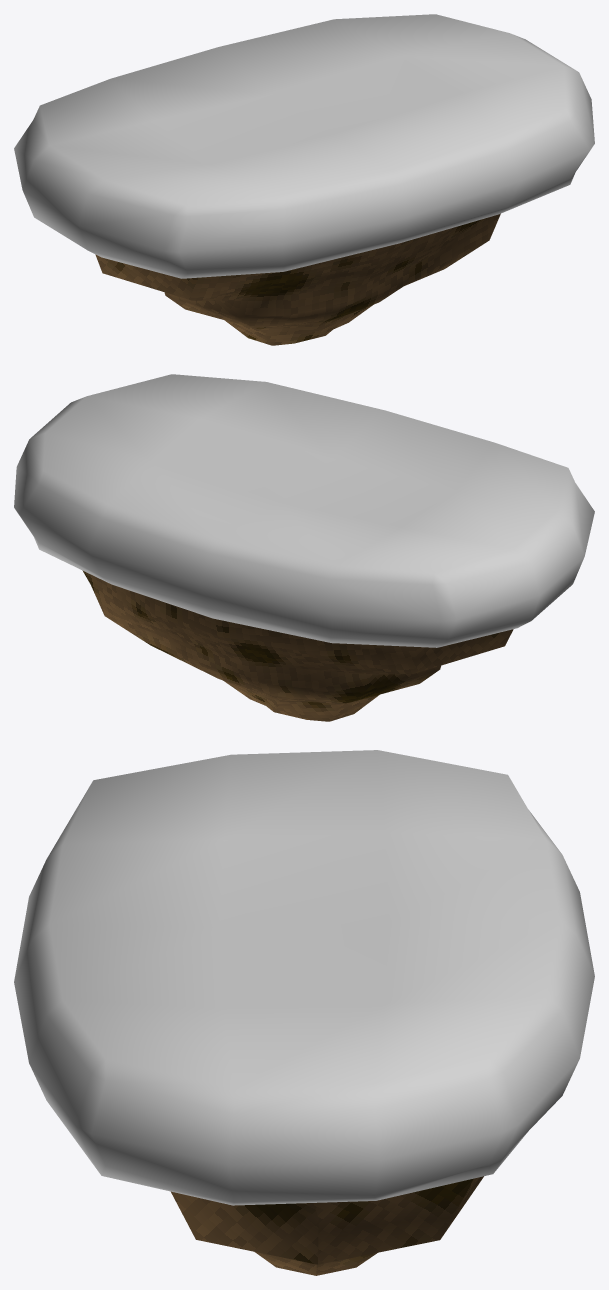
The model's file is Platform_Small01.FBX.
3 views of the same model, one above another, from view 1: azimuth 30°, elevation 25°; view 2: azimuth 150°, elevation 25°; view 3: azimuth 270°, elevation 25° (orthographic). The views are drawn at different scales.
Visible parts, largest first — view 1: Platfrom_Small01; view 2: Platfrom_Small01; view 3: Platfrom_Small01.
Boxes of the visible parts, x1,y1,x2,y2 form: Platfrom_Small01: [14, 14, 594, 345]; Platfrom_Small01: [14, 374, 594, 721]; Platfrom_Small01: [14, 750, 594, 1275].
Size of the model in its own units: 1301 by 552 by 844.
